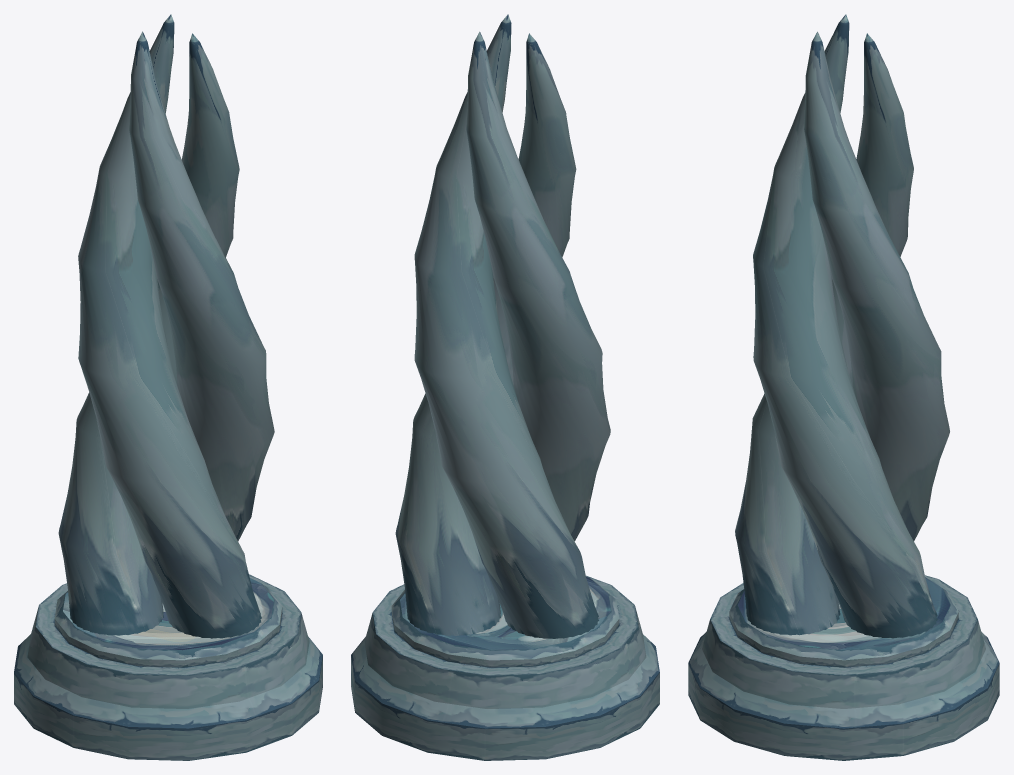
File: SM_CT_Pillar.FBX
The picture shows the model from 3 angles, left to right: view 1: azimuth 30°, elevation 25°; view 2: azimuth 150°, elevation 25°; view 3: azimuth 270°, elevation 25°; orthographic projection.
Visible parts, largest first — view 1: SM_CT_Pillar; view 2: SM_CT_Pillar; view 3: SM_CT_Pillar.
Boxes of the visible parts, x1=… form: SM_CT_Pillar: x1=14, y1=14, x2=322, y2=760; SM_CT_Pillar: x1=351, y1=14, x2=659, y2=760; SM_CT_Pillar: x1=688, y1=14, x2=999, y2=760.
Bounding box in the file's own units: 98.77 × 234 × 98.77.
